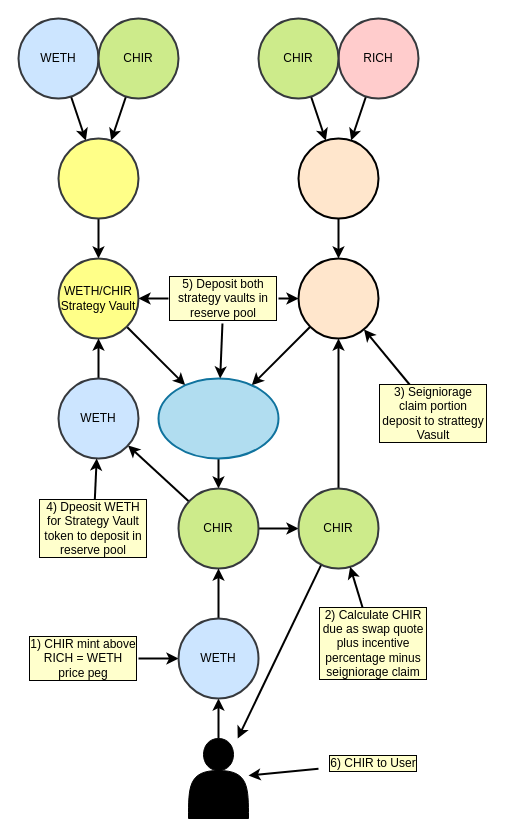
Some shapes in this 505 by 836 pixel diagram are drawn without their labels. The centre of each missing label's shape, as x and y in pixels:
"CHIR/RICH" belongs at point (338, 178).
"CHIR/RICH Strategy Vault" belongs at point (338, 298).
"User" belongs at point (218, 778).
"WETH/CHIR" belongs at point (98, 178).
"WETH/CHIR 20% CHIR/RICH 80% Weighted Pool" belongs at point (218, 418).
